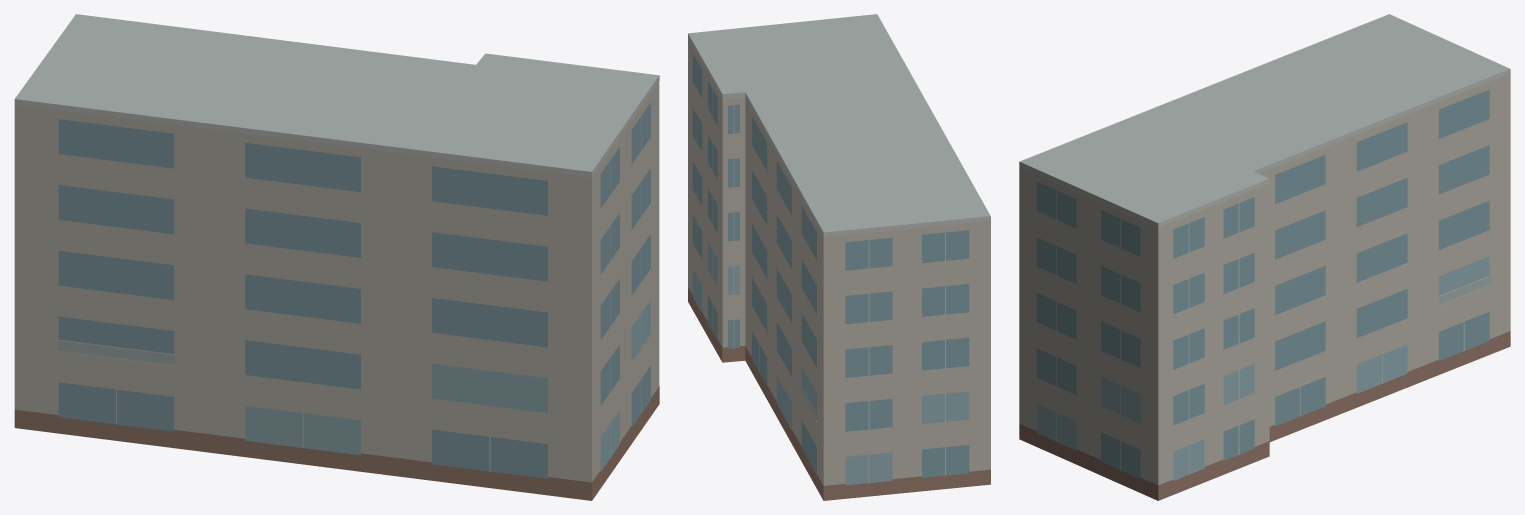
File: survey-upis-32722714.glb
3 renders of one model, left to right at view 1: azimuth 30°, elevation 25°; view 2: azimuth 150°, elevation 25°; view 3: azimuth 270°, elevation 25°, orthographic. The views are drawn at different scales.
Visible parts, largest first — view 1: survey-upis-32722714.tmp; view 2: survey-upis-32722714.tmp; view 3: survey-upis-32722714.tmp.
Boxes of the visible parts, bbox=[...] form: survey-upis-32722714.tmp: bbox=[14, 14, 659, 500]; survey-upis-32722714.tmp: bbox=[688, 14, 990, 500]; survey-upis-32722714.tmp: bbox=[1019, 14, 1510, 500].
Bounding box in the file's own units: 23.11 × 14.3 × 22.93.
